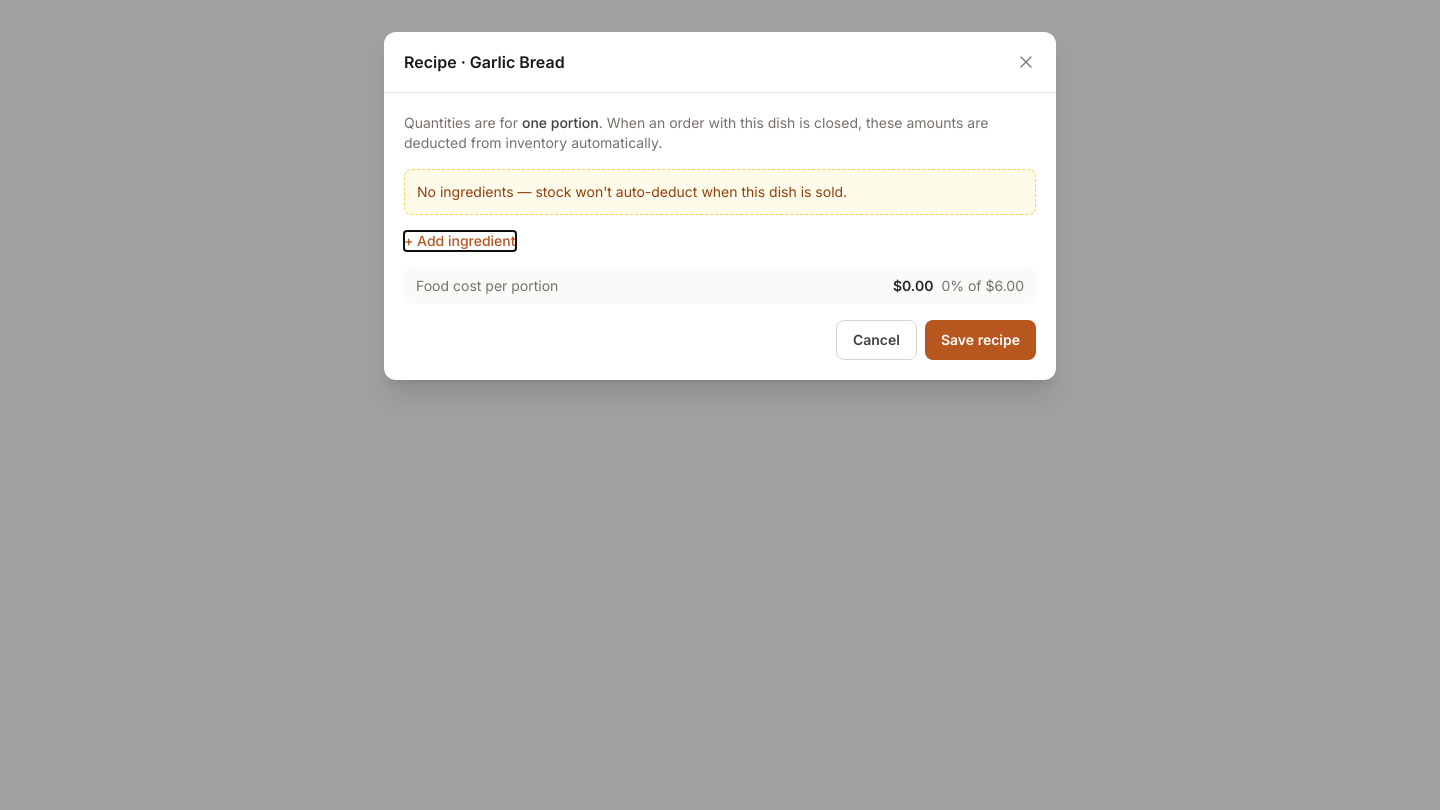
Test case: RecipeEditor › rejects a quantity above the server limit of 100,000
Click the button "+ Add ingredient". click: (460, 241)
box: x1=404 y1=231 x2=516 y2=251
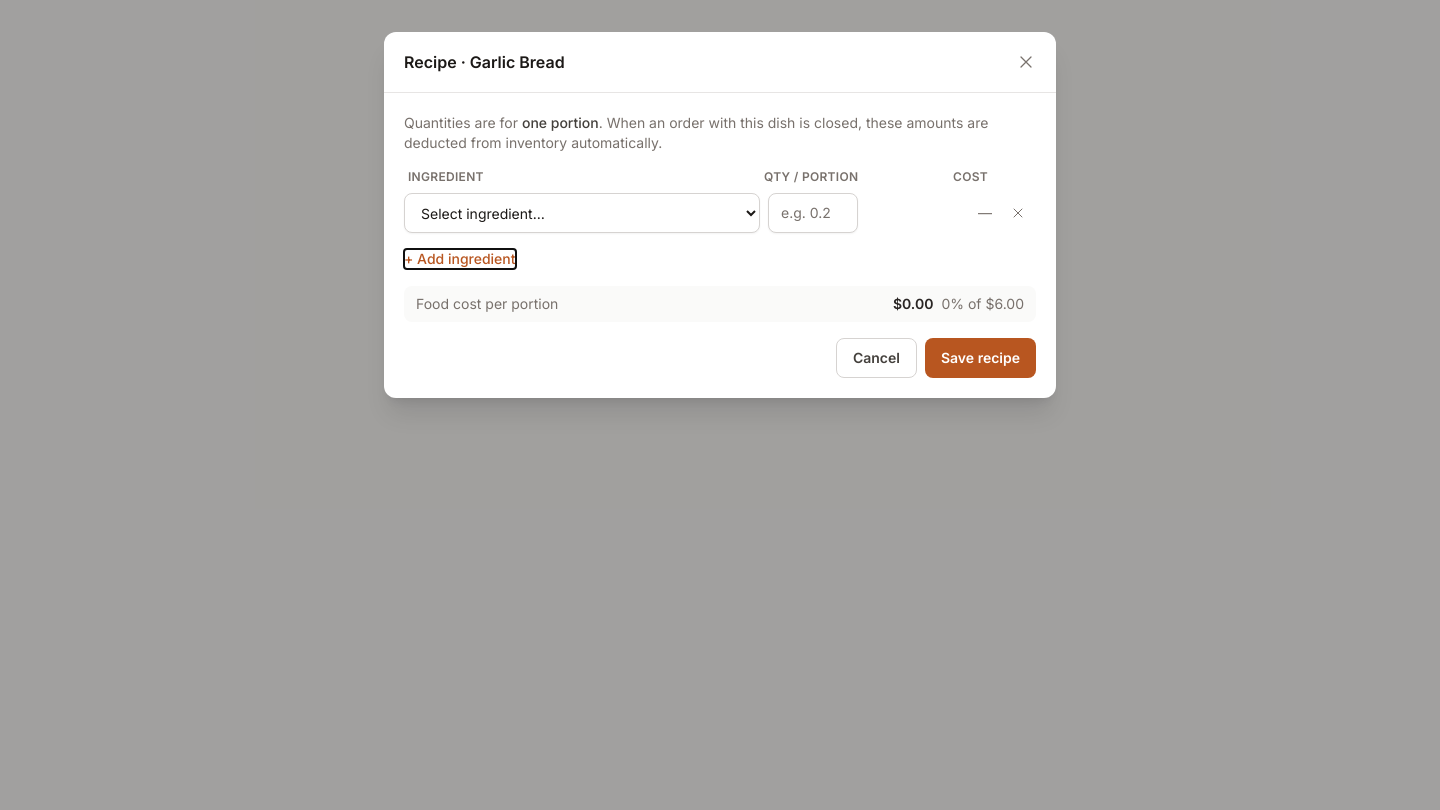
Select "Flour (kg)" in the dropdown named "Ingredient". click: (582, 213)
box: x1=404 y1=193 x2=760 y2=233
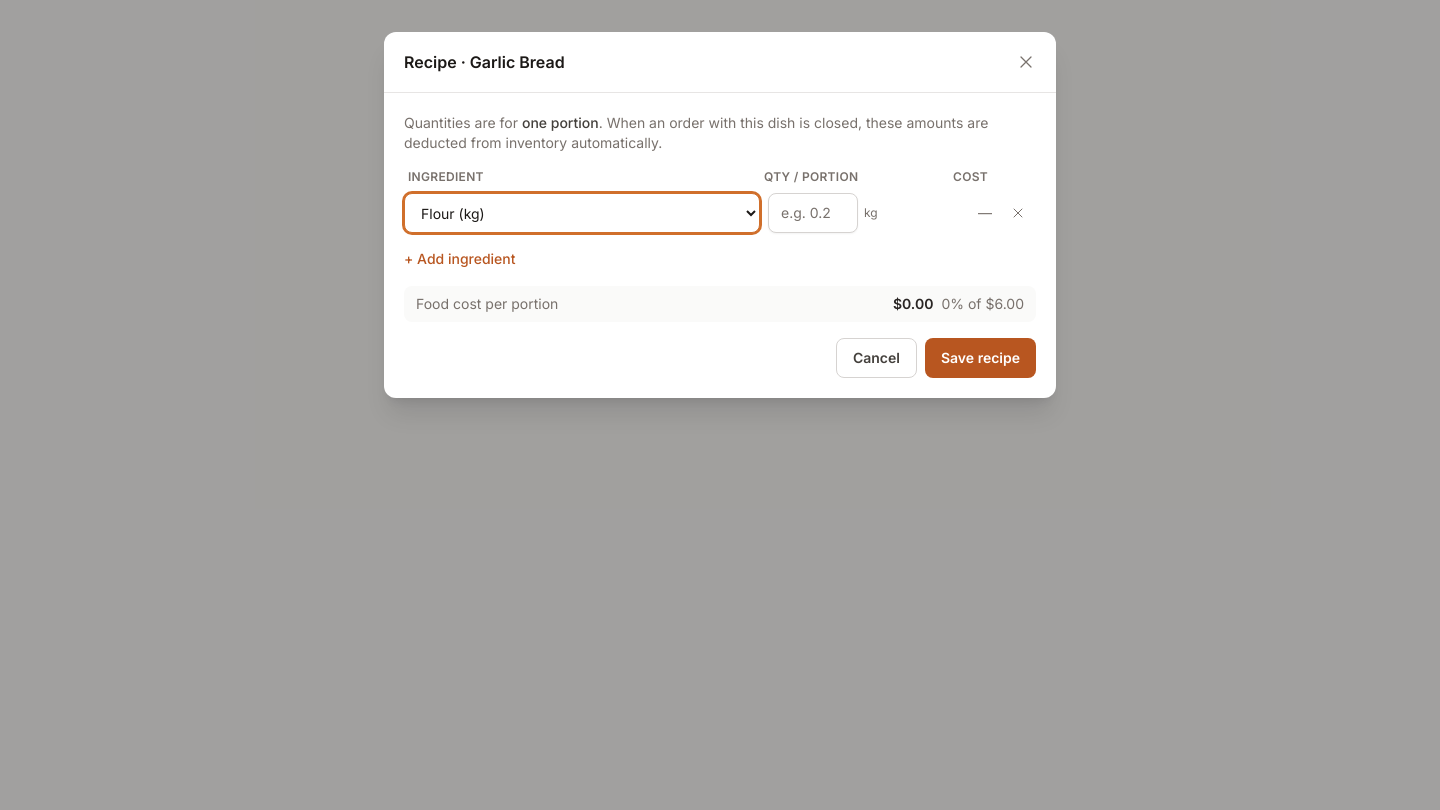
Type "100001" into the number field named "Quantity of Flour". click: (813, 213)
box: x1=768 y1=193 x2=858 y2=233
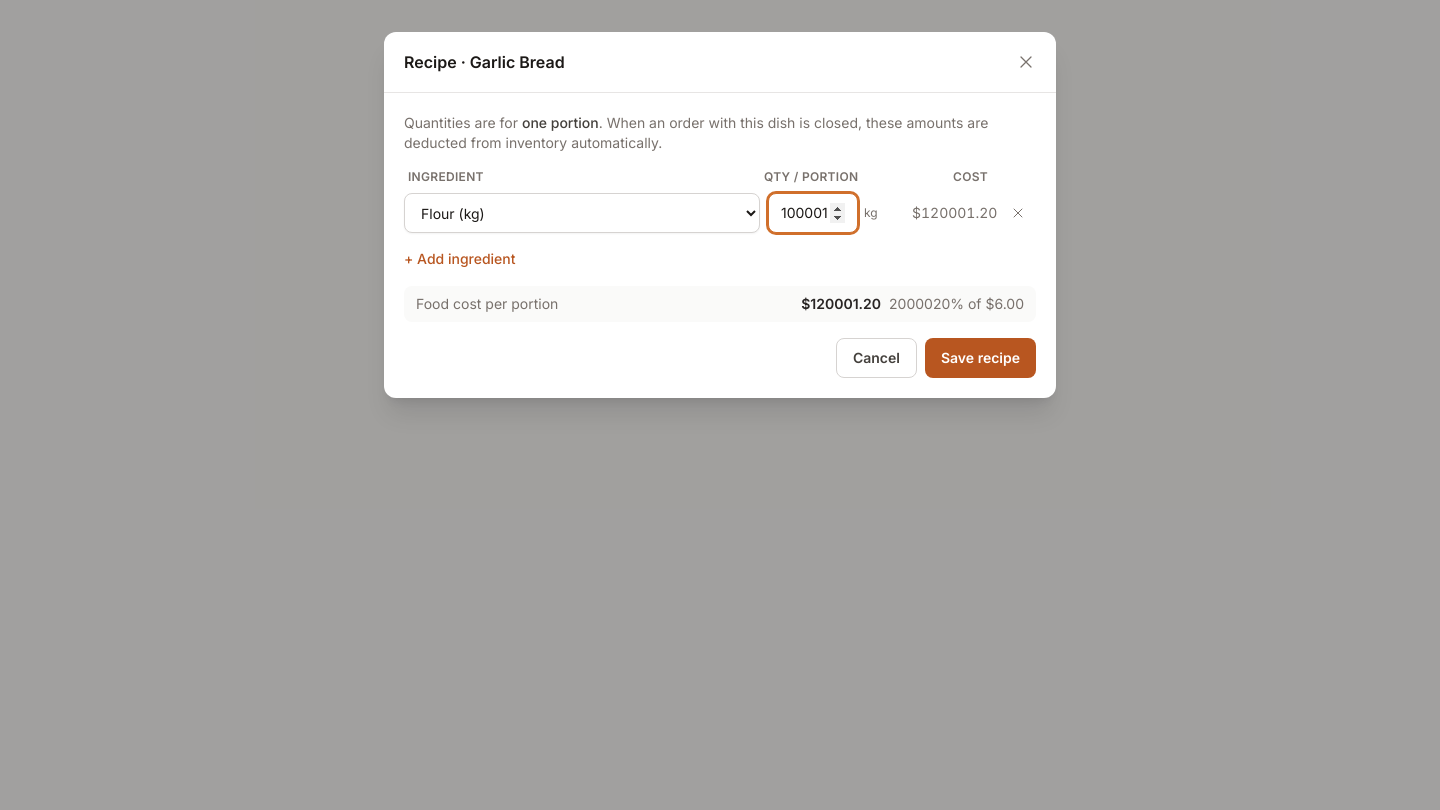
Click the button "Save recipe". click: (980, 358)
box: x1=925 y1=338 x2=1036 y2=378
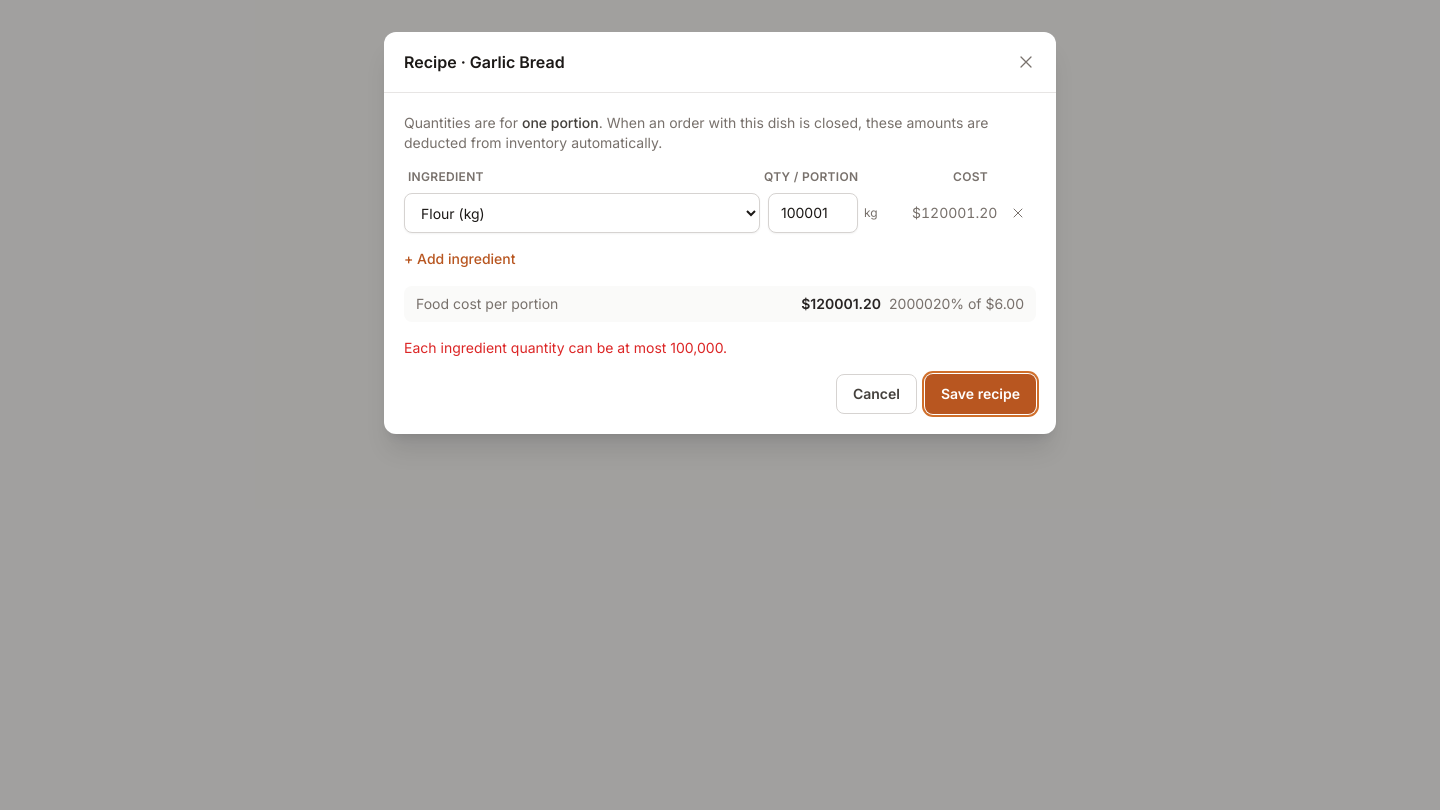
expect the message reads "Each ingredient quantity can be at most 100,000.": met, box x1=404 y1=339 x2=727 y2=356
